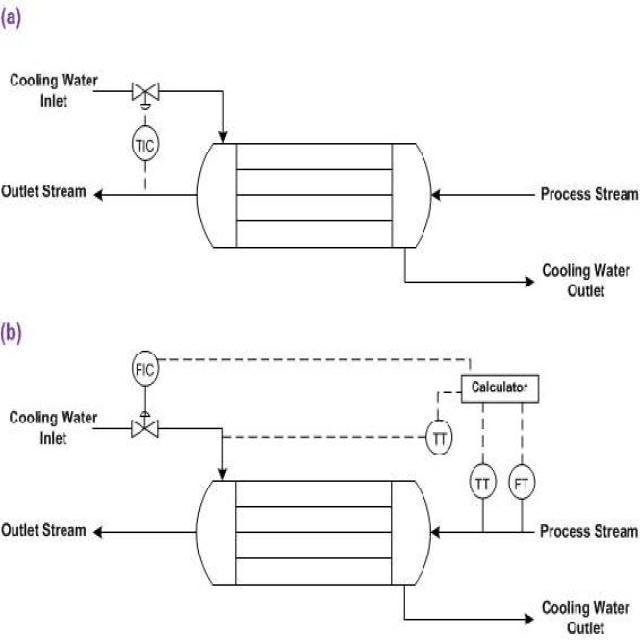Pneumatic-Diaphragm Gate Valve: (125, 401, 163, 449), (128, 76, 164, 116)
